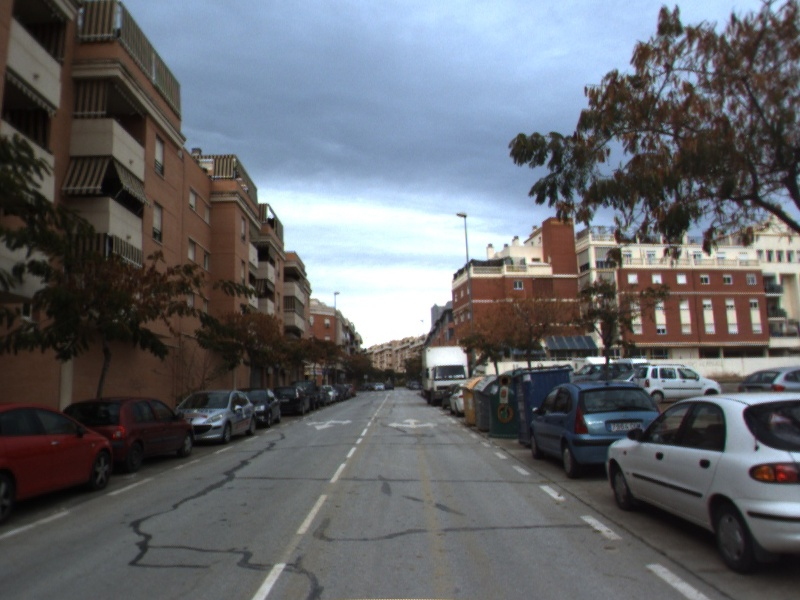STRAIGHT_LEFT_RIGHT: (386, 416, 441, 431)
